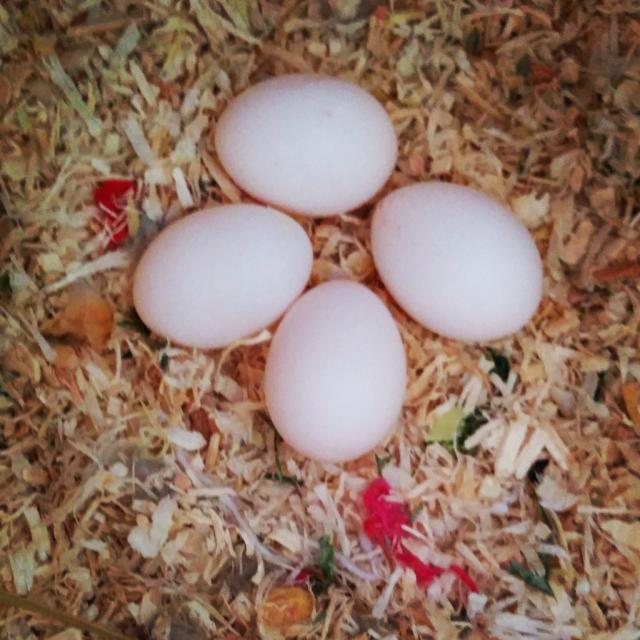Egg: (132, 73, 544, 460), (263, 283, 407, 465)
